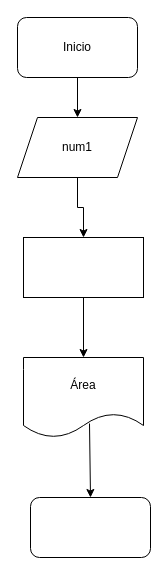
The diagram is 168 pixels wide and 575 high, and some of its shapes have lost their labels. Here are the shapes that lost their labels. From the top down, the centre of each, then its label:
At pixel 83 267: "Área= pi* num1^2".
At pixel 90 527: "Fin".
